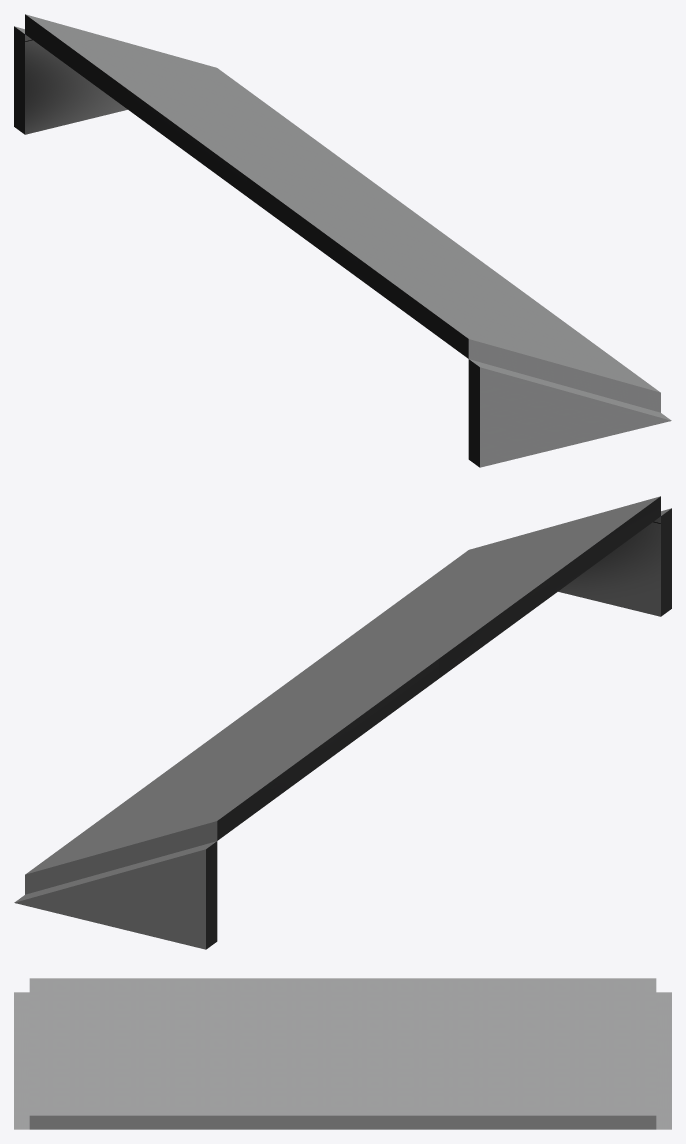
The model's file is Roof L.fbx.
3 views of the same model, one above another, from view 1: azimuth 30°, elevation 25°; view 2: azimuth 150°, elevation 25°; view 3: azimuth 270°, elevation 25° (orthographic). The views are drawn at different scales.
Parts seen in each view (by area): view 1: Cube.140; view 2: Cube.140; view 3: Cube.140.
Boxes of the visible parts, <box> form: Cube.140: <box>14,14,671,467</box>; Cube.140: <box>14,496,671,949</box>; Cube.140: <box>14,978,671,1129</box>.
Bounding box in the file's own units: 2 × 1.2 × 8.4.
